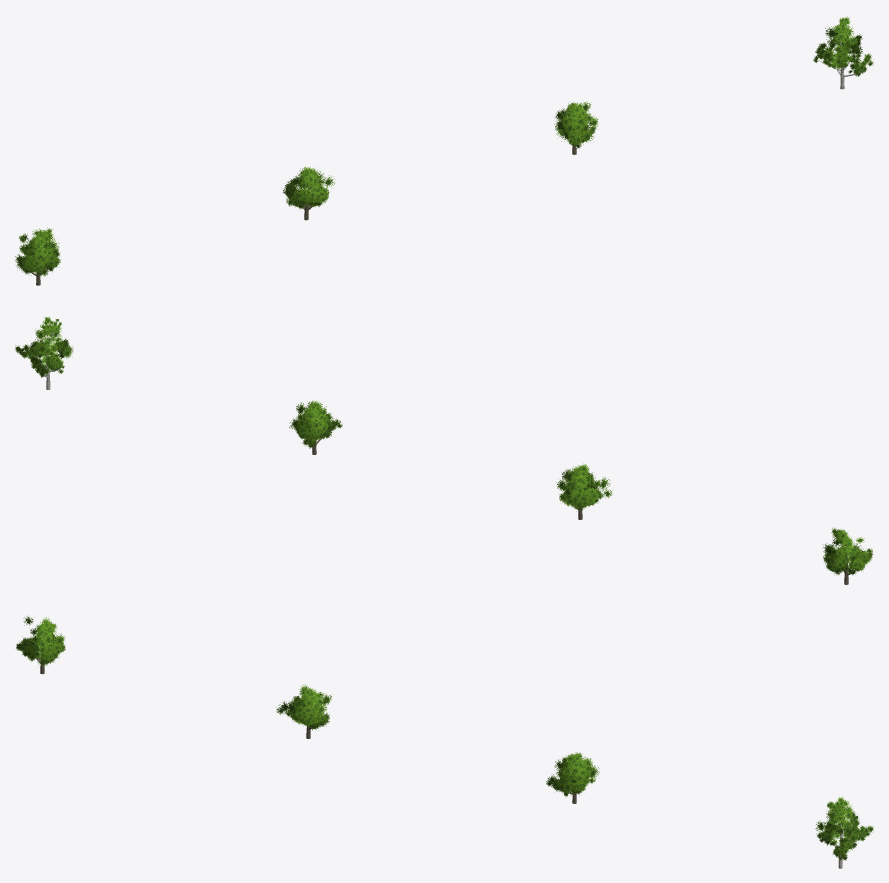
Rendered from broadleaf.glb.
The picture shows the model from 3 angles, top to bottom: view 1: azimuth 30°, elevation 25°; view 2: azimuth 150°, elevation 25°; view 3: azimuth 330°, elevation 25°; orthographic projection.
Parts seen in each view (by area): view 1: broadleaf_leaves_33, broadleaf_leaves_3, broadleaf_leaves_8, broadleaf_leaves_21; view 2: broadleaf_leaves_33, broadleaf_leaves_8, broadleaf_leaves_3, broadleaf_leaves_21; view 3: broadleaf_leaves_33, broadleaf_leaves_3, broadleaf_leaves_8, broadleaf_leaves_21.
Part boxes in pixels (box(x1,y1,x2,y2)): broadleaf_leaves_33: box(813, 16, 873, 76); broadleaf_leaves_3: box(15, 228, 60, 276); broadleaf_leaves_8: box(282, 166, 335, 209); broadleaf_leaves_21: box(554, 101, 598, 148); broadleaf_leaves_33: box(15, 316, 73, 377); broadleaf_leaves_8: box(556, 463, 612, 511); broadleaf_leaves_3: box(822, 527, 872, 575); broadleaf_leaves_21: box(289, 400, 342, 448); broadleaf_leaves_33: box(815, 797, 873, 860); broadleaf_leaves_3: box(16, 616, 65, 666); broadleaf_leaves_8: box(276, 684, 332, 730); broadleaf_leaves_21: box(546, 752, 599, 796).
Bounding box in the file's own units: 191 × 15.61 × 11.52.
3 materials, 3 textured.
